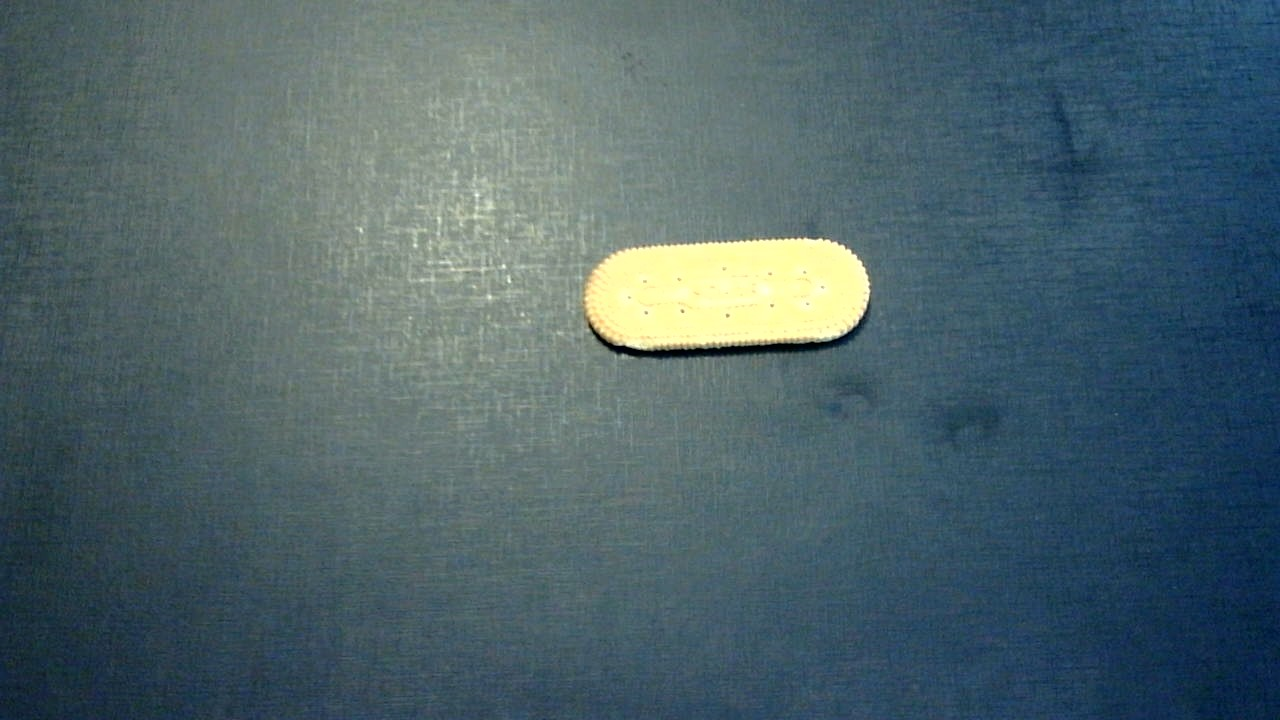solar: (585, 237, 873, 352)
